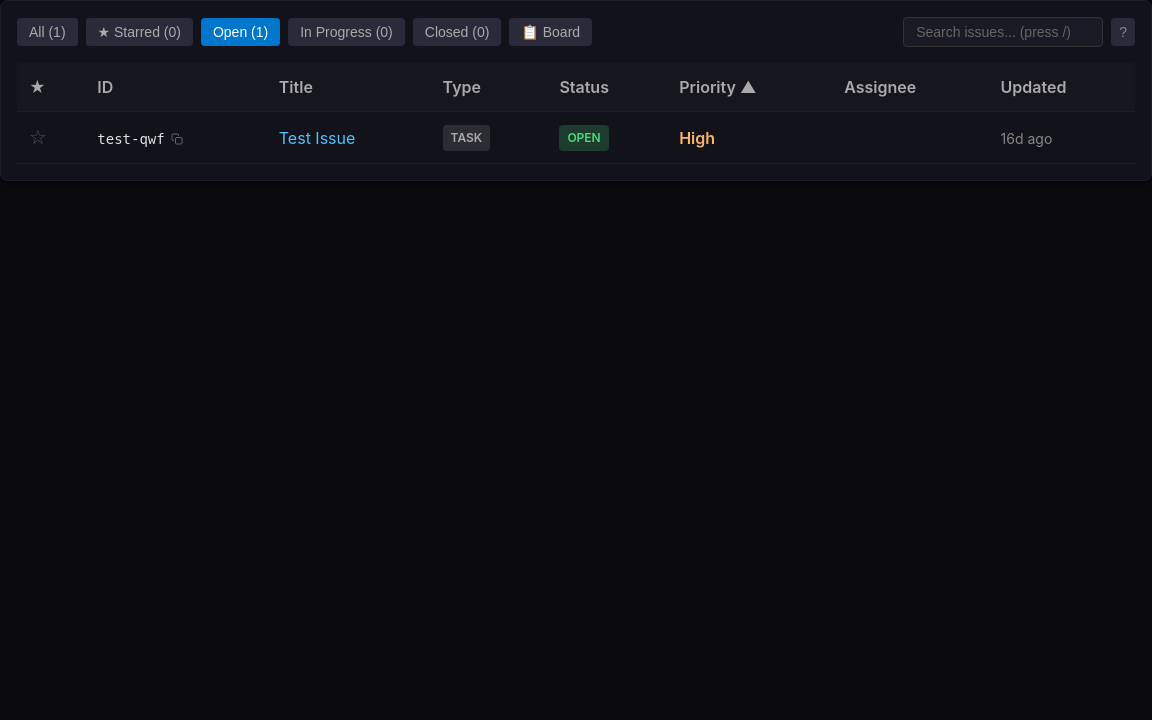
Test: IssueList › help modal › closes when clicking backdrop
The width and height of the screenshot is (1152, 720).
Click the button titled "Keyboard shortcuts": click(1123, 32) top-left (1111, 18), bottom-right (1135, 46)
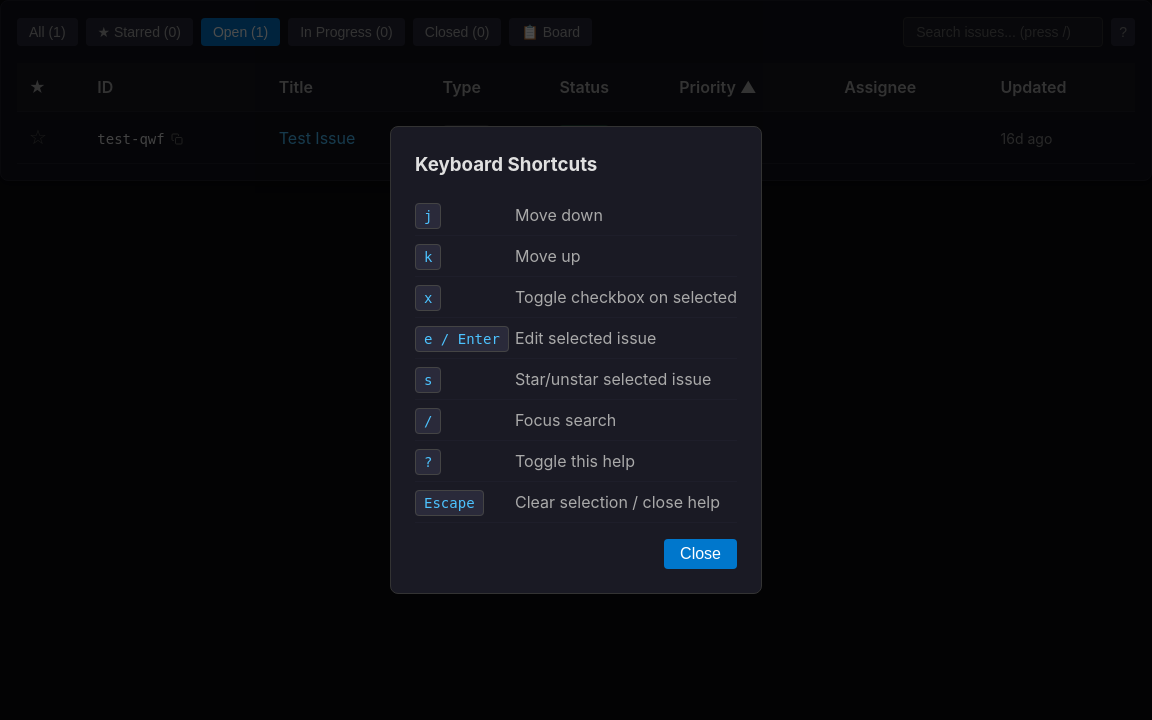
expect the heading "Keyboard Shortcuts" is shown: met, box top-left (415, 153), bottom-right (597, 176)
# Click the backdrop (the outer div with rgba background)
Click the element that starts with "Keyboard Shortcuts": click(69, 360) top-left (0, 0), bottom-right (1151, 719)
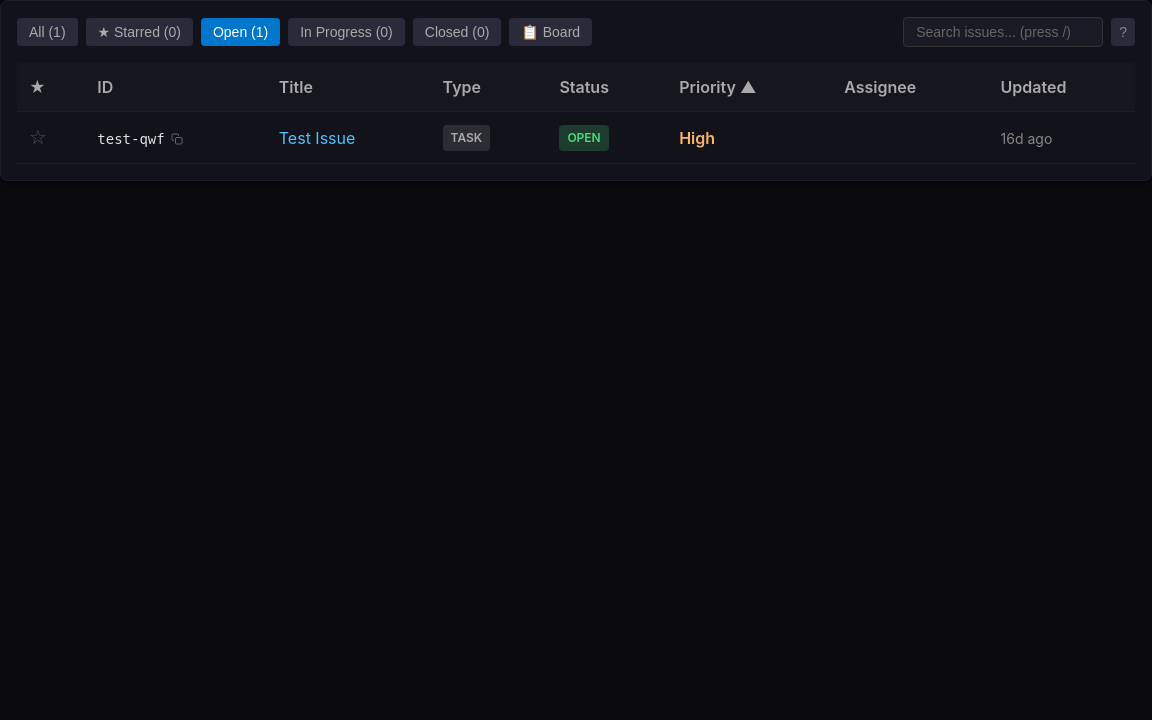
expect the heading "Keyboard Shortcuts" is gone: met
